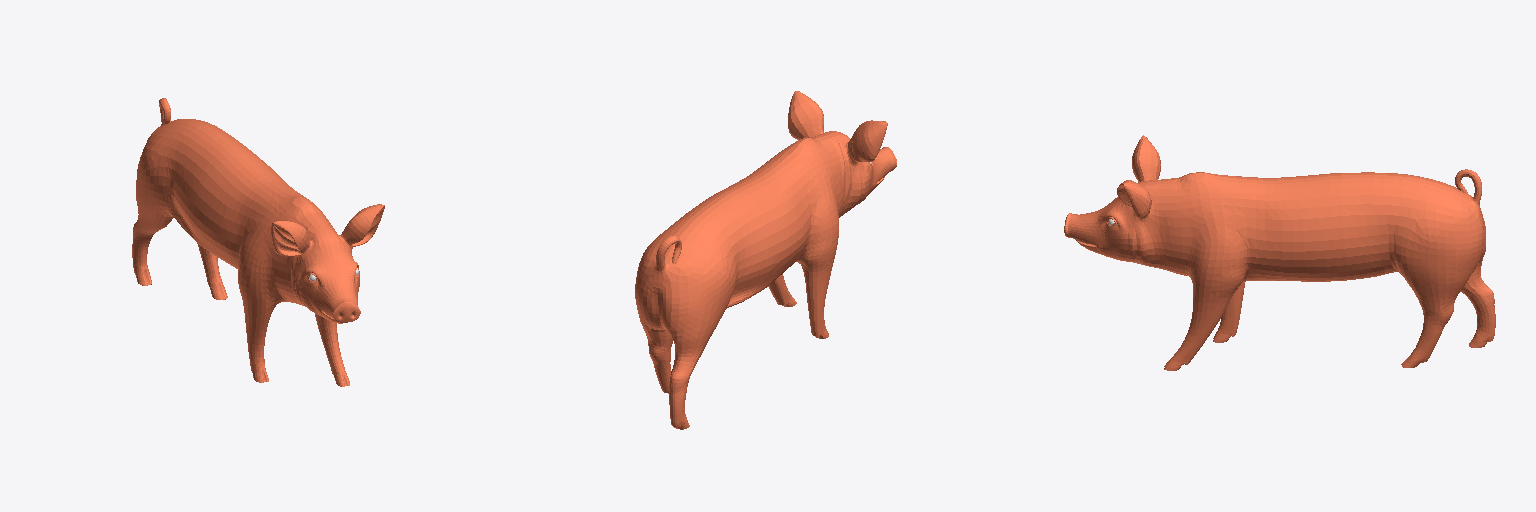
The model's file is sika.obj.
The picture shows the model from 3 angles: view 1: azimuth 30°, elevation 25°; view 2: azimuth 150°, elevation 25°; view 3: azimuth 270°, elevation 25°; orthographic projection.
Parts seen in each view (by area): view 1: sika-COM-Pig_Table-104952-Color_B03; view 2: sika-COM-Pig_Table-104952-Color_B03; view 3: sika-COM-Pig_Table-104952-Color_B03.
Part boxes in pixels (x1,y1,x2,y2): sika-COM-Pig_Table-104952-Color_B03: (132,98,384,386); sika-COM-Pig_Table-104952-Color_B03: (635,91,896,429); sika-COM-Pig_Table-104952-Color_B03: (1064,135,1495,370).
Bounding box in the file's own units: 0.3849 × 0.6834 × 1.39.